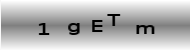1: (36, 22, 50, 35)
E: (90, 19, 104, 32)
T: (106, 13, 121, 26)
g: (67, 22, 80, 35)
m: (135, 24, 155, 34)
